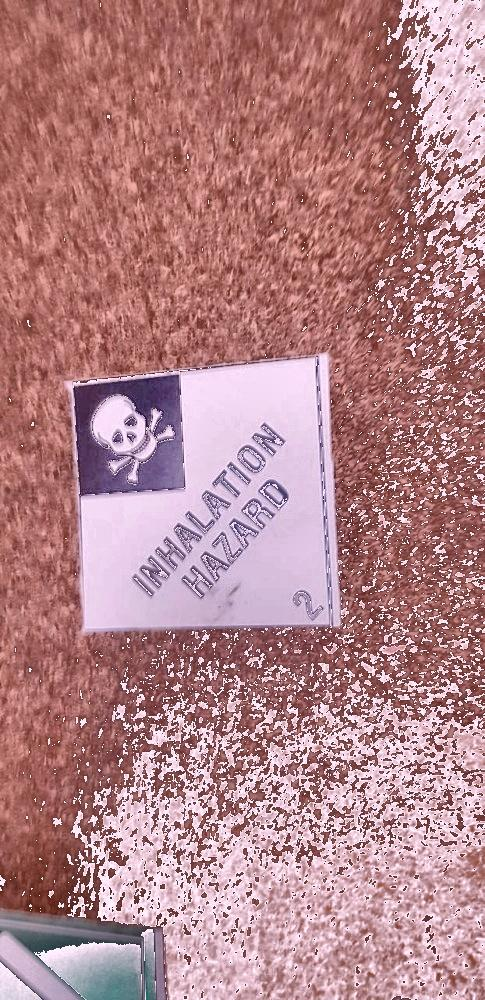poison: (70, 375, 346, 634)
